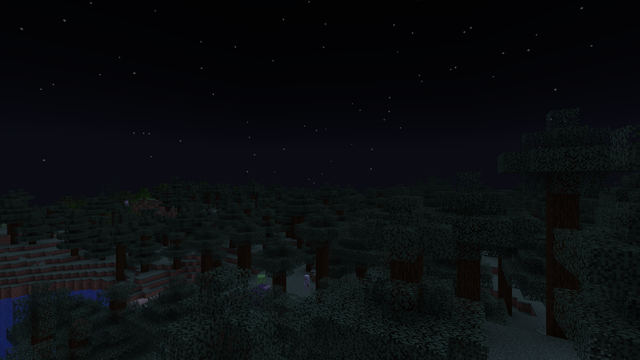slimes: (256, 273, 266, 283)
squelettes: (303, 274, 309, 291)
